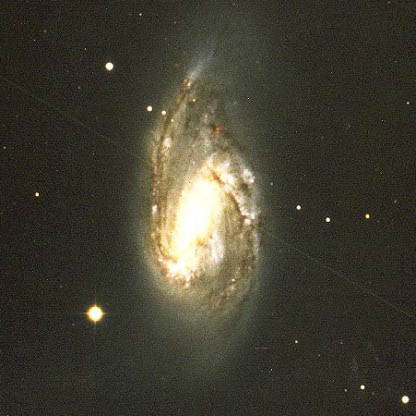Messier 66: (79, 51, 278, 370)
